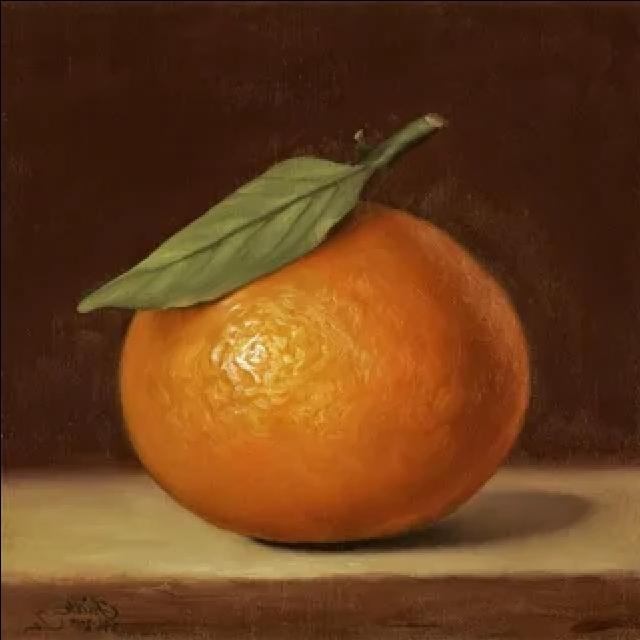orange: (110, 184, 532, 548)
